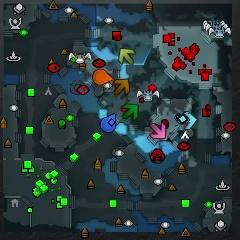p1: (101, 113, 117, 132)
p5: (92, 68, 113, 86)
x1: (150, 122, 166, 140)
x2: (119, 49, 136, 64)
x3: (178, 112, 197, 131)
x4: (123, 103, 139, 120)
x5: (114, 78, 131, 95)
